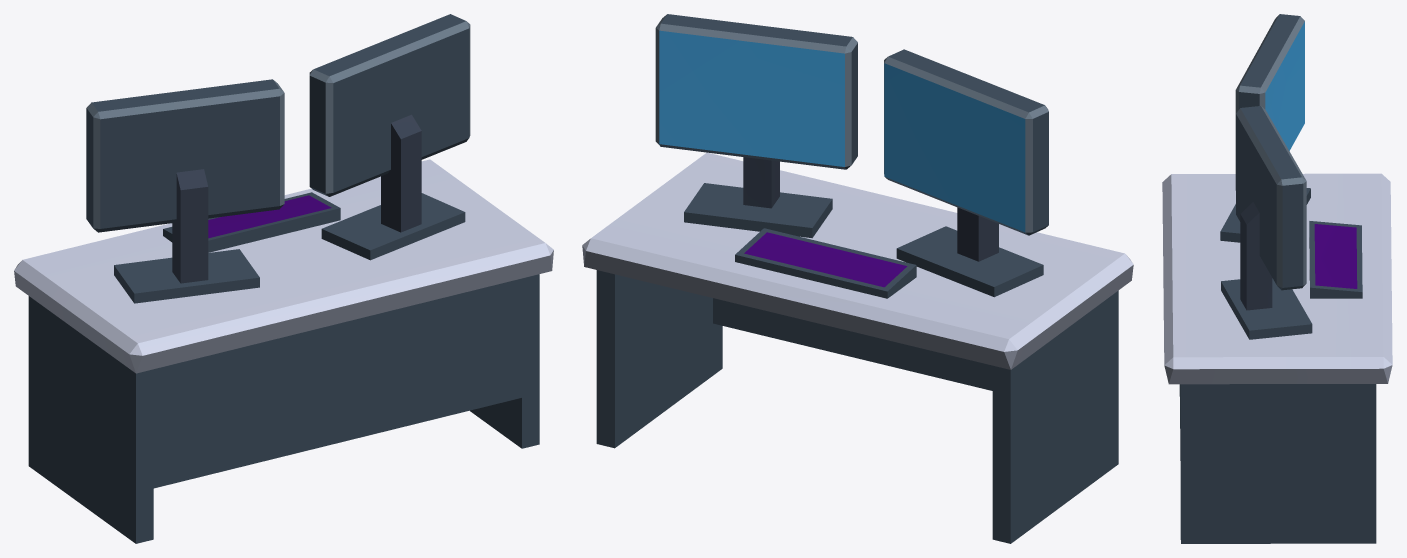
Rendered from tablePC_on.fbx.
The picture shows the model from 3 angles, left to right: view 1: azimuth 30°, elevation 25°; view 2: azimuth 150°, elevation 25°; view 3: azimuth 270°, elevation 25°; orthographic projection. The views are drawn at different scales.
Parts seen in each view (by area): view 1: tablePC_on; view 2: tablePC_on; view 3: tablePC_on.
Boxes of the visible parts, box(x1,y1,x2,y2) form: tablePC_on: box(14, 14, 553, 543); tablePC_on: box(582, 14, 1133, 543); tablePC_on: box(1162, 14, 1392, 543).
Size of the model in its own units: 1.69 by 1.46 by 0.8576.
